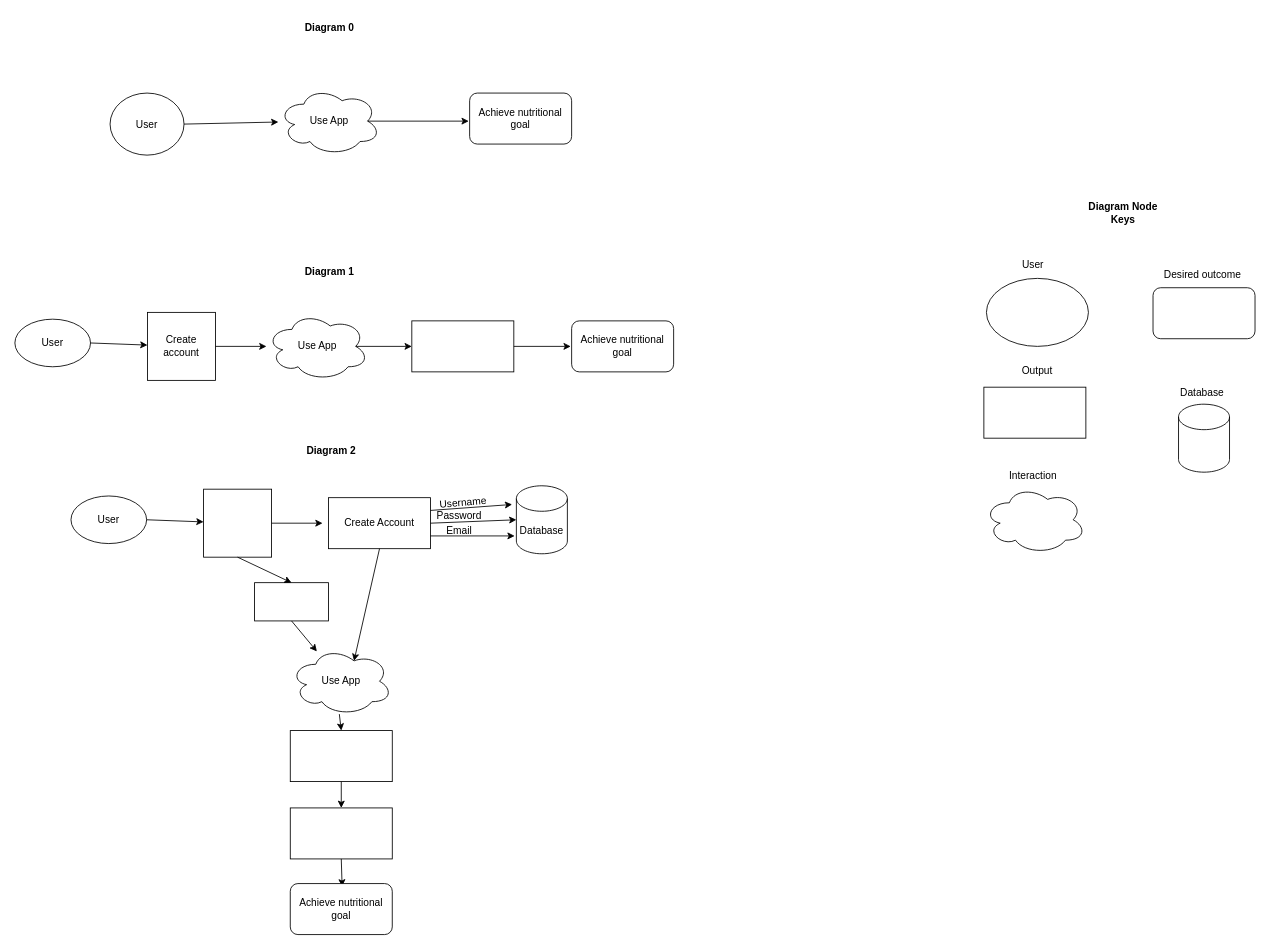
This 1270x949 diagram has some shape labels left out. Here are the shapes that lost their labels. From the top down, the centre of each, then its label:
At point (462, 346): "Find nutritional recommendations".
At point (237, 522): "Visit app website (URL)".
At point (291, 601): "Login".
At point (340, 756): "Answer questions about nutrition goals".
At point (340, 833): "Find recommendations based on preferences".
